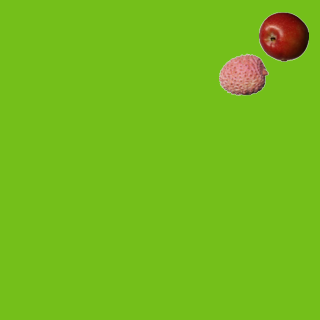Apple Braeburn: (258, 11, 308, 61)
Lychee: (218, 49, 268, 99)
